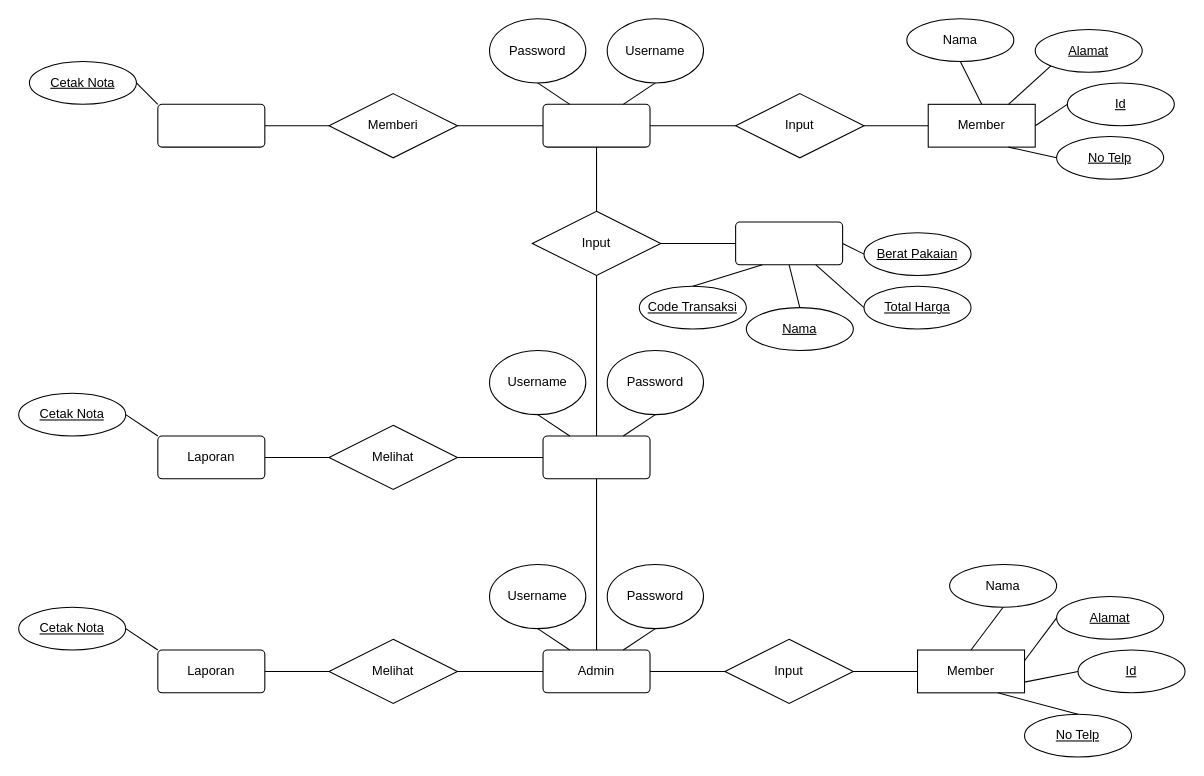
This 1204x776 diagram has some shape labels left out. The centre of each missing label's shape, as x and y in pixels:
Generate Laporan: point 211,125
Kasir: point 596,125
Owner: point 596,457
Transaksi: point 789,243
